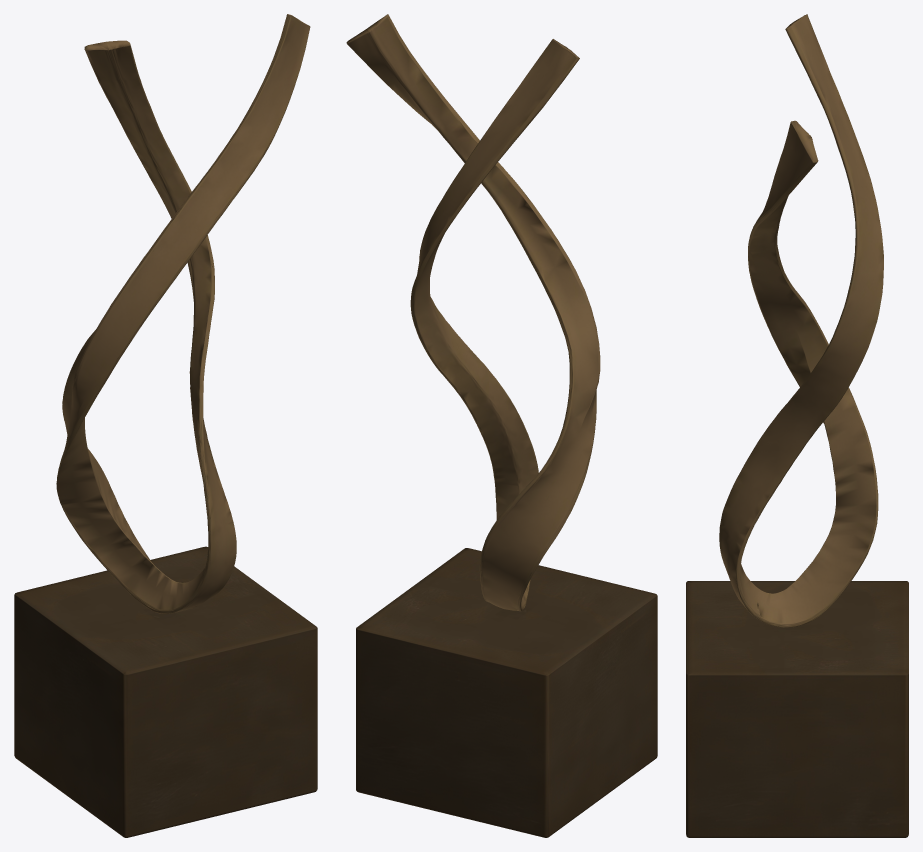
Rendered from sculpture.glb.
The picture shows the model from 3 angles, left to right: view 1: azimuth 30°, elevation 25°; view 2: azimuth 150°, elevation 25°; view 3: azimuth 270°, elevation 25°; orthographic projection.
Visible parts, largest first — view 1: tripo_node_a447cf9a-4f2a-46c6-9e8e-c006332a1155; view 2: tripo_node_a447cf9a-4f2a-46c6-9e8e-c006332a1155; view 3: tripo_node_a447cf9a-4f2a-46c6-9e8e-c006332a1155.
Part boxes in pixels (x1,y1,x2,y2): tripo_node_a447cf9a-4f2a-46c6-9e8e-c006332a1155: (14,14,317,837); tripo_node_a447cf9a-4f2a-46c6-9e8e-c006332a1155: (346,14,657,837); tripo_node_a447cf9a-4f2a-46c6-9e8e-c006332a1155: (686,14,908,837).
Bounding box in the file's own units: 0.3481 × 0.9995 × 0.271.
1 material, 1 textured.
